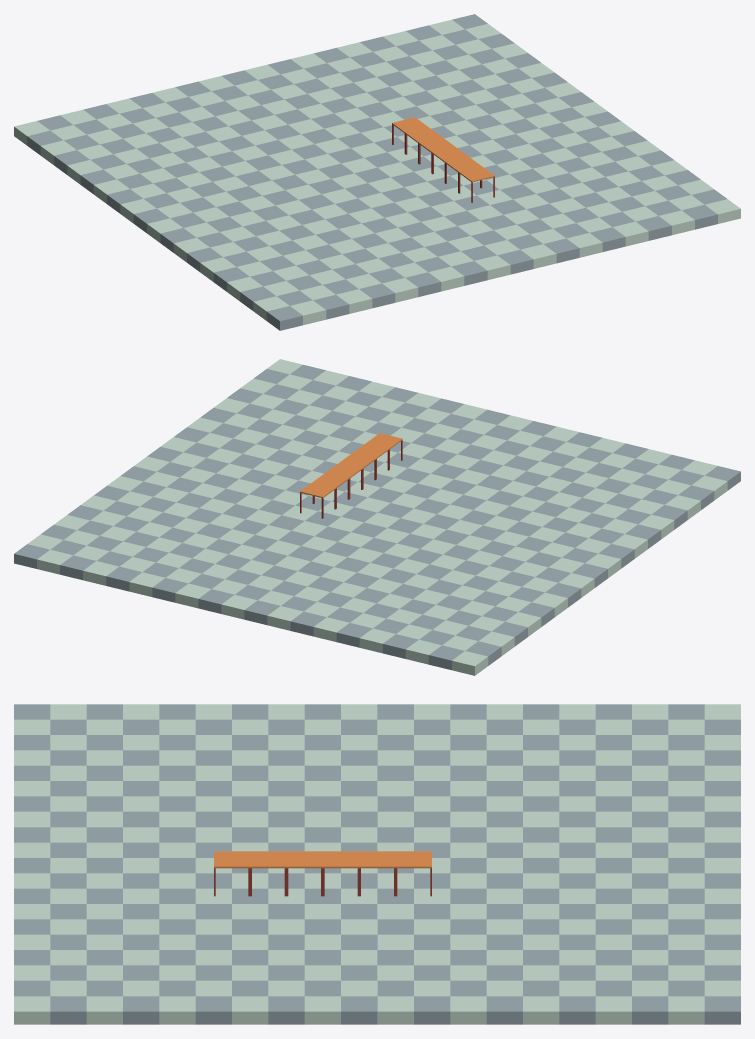
File: Level_01.glb
3 renders of one model, top to bottom at view 1: azimuth 30°, elevation 25°; view 2: azimuth 150°, elevation 25°; view 3: azimuth 270°, elevation 25°, orthographic. The views are drawn at different scales.
Visible parts, largest first — view 1: Floor, Table.003; view 2: Floor, Table.004; view 3: Floor, Table.005, Table.003, Table, Table.004, Table.002, Table.001.
Boxes of the visible parts, box(x1,y1,x2,y2) form: Floor: box(14, 14, 740, 330); Table.003: box(458, 166, 494, 202); Floor: box(14, 359, 740, 675); Table.004: box(300, 482, 336, 518); Floor: box(14, 704, 740, 1024); Table.005: box(250, 851, 286, 896); Table.003: box(214, 851, 250, 896); Table: box(323, 851, 359, 896); Table.004: box(395, 851, 431, 896); Table.002: box(286, 851, 322, 896); Table.001: box(359, 851, 395, 896).
Size of what is drawn, in the model's own units: 20 by 1.3 by 20.
1 material, 1 textured.
